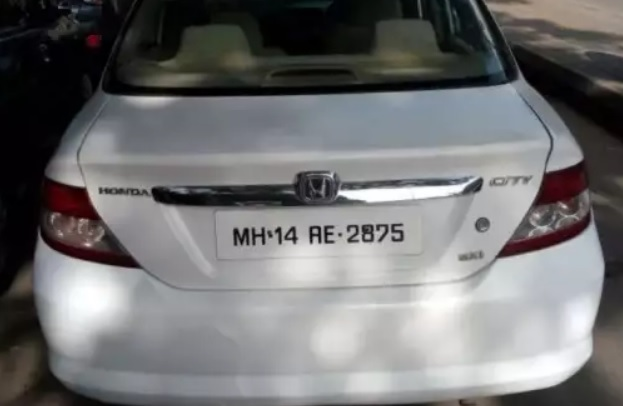licenseplate: (211, 207, 427, 258)
